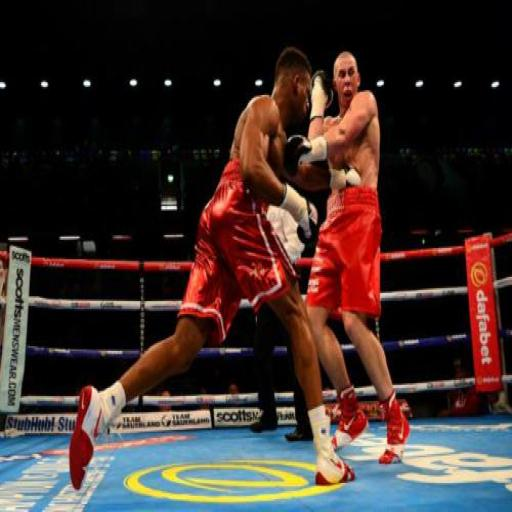boxing: (68, 45, 358, 490), (258, 54, 404, 485)
